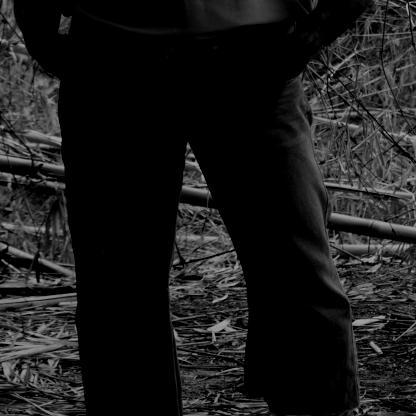dress: (48, 6, 371, 416)
